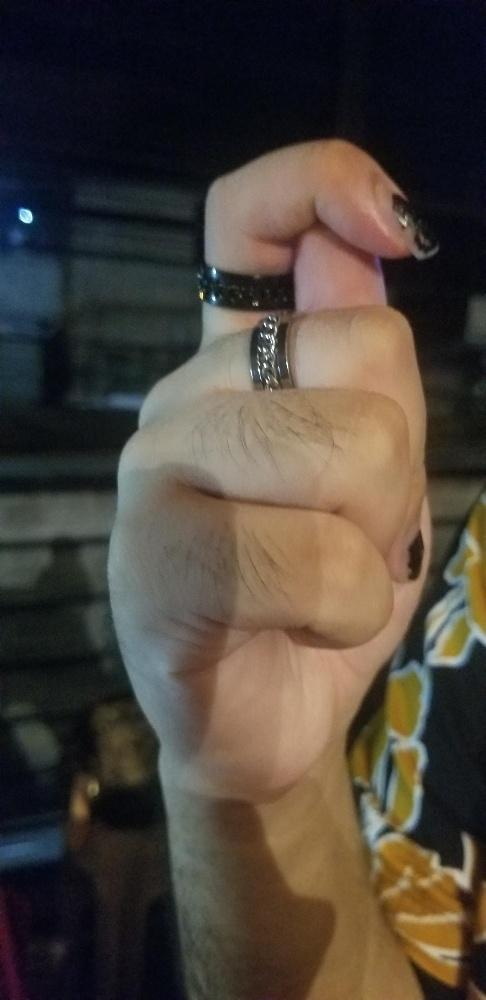t: (101, 133, 439, 798)
